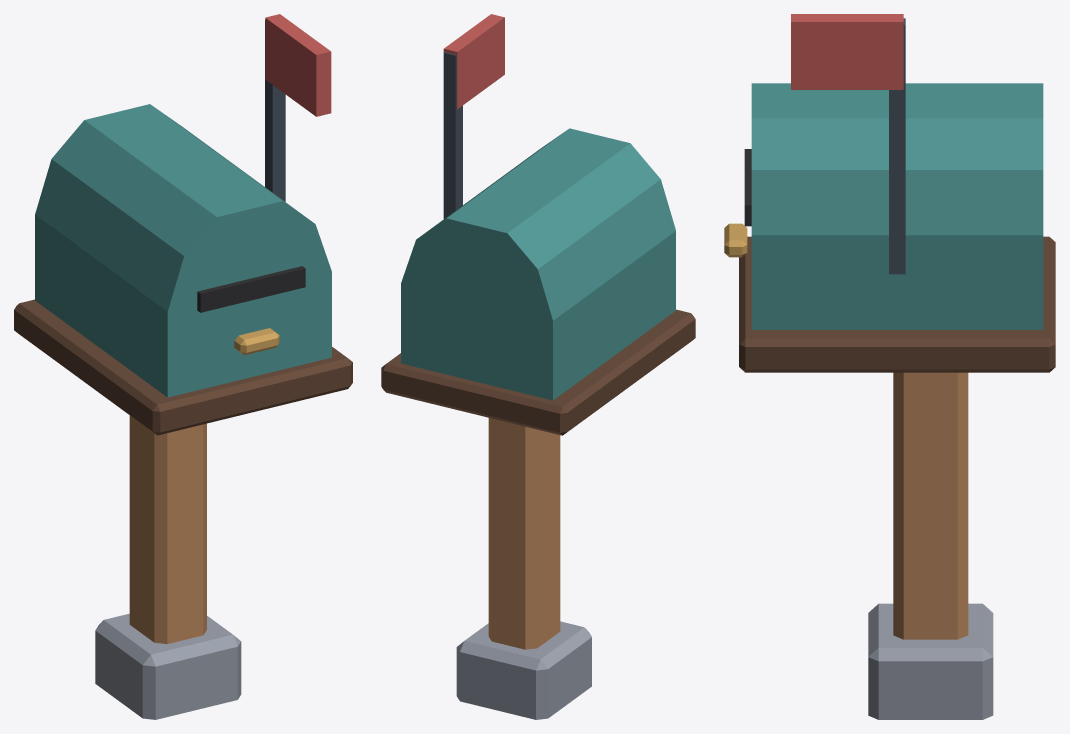
Rendered from mailbox.glb.
3 views of the same model, side by side, from view 1: azimuth 30°, elevation 25°; view 2: azimuth 150°, elevation 25°; view 3: azimuth 270°, elevation 25° (orthographic). The views are drawn at different scales.
Parts seen in each view (by area): view 1: mailbox_建筑共用调色板; view 2: mailbox_建筑共用调色板; view 3: mailbox_建筑共用调色板.
Part boxes in pixels (left/top/right/bottom): mailbox_建筑共用调色板: left=14, top=14, right=352, bottom=719; mailbox_建筑共用调色板: left=381, top=14, right=695, bottom=719; mailbox_建筑共用调色板: left=724, top=14, right=1055, bottom=719.
Size of the model in its own units: 0.61 by 1.92 by 0.7955.
1 material, 1 textured.
